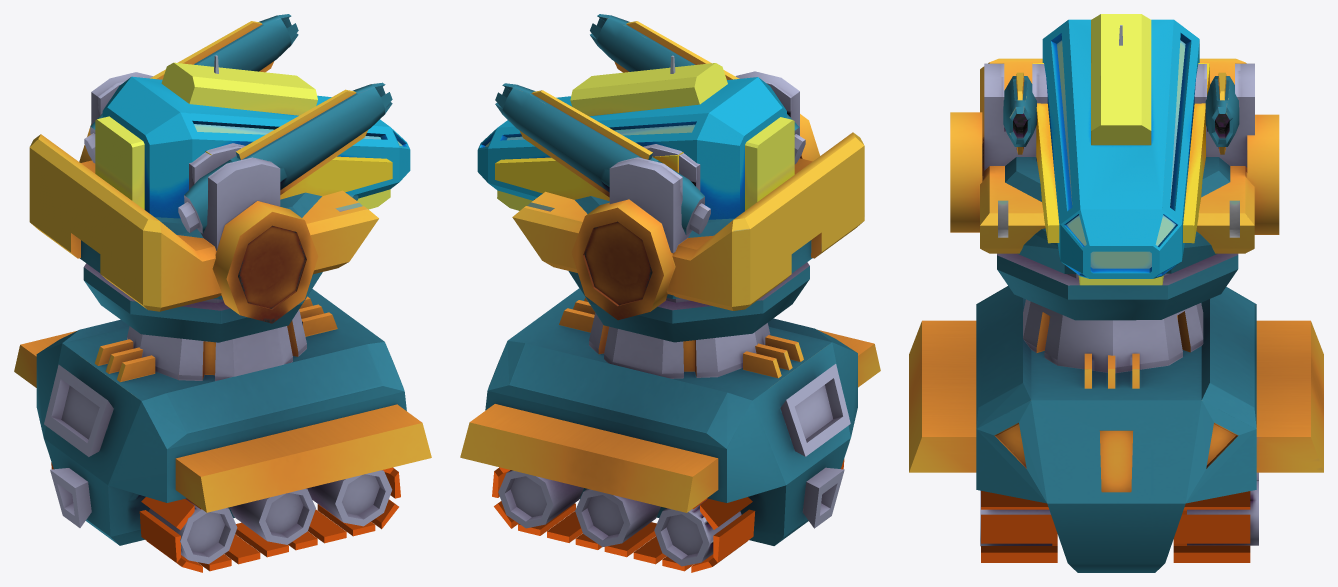
The model's file is Player_Idle_1_Upgrade16.obj.
3 views of the same model, side by side, from view 1: azimuth 30°, elevation 25°; view 2: azimuth 150°, elevation 25°; view 3: azimuth 270°, elevation 25° (orthographic). The views are drawn at different scales.
Parts seen in each view (by area): view 1: Object008, Object014, Box009, Box017; view 2: Object008, Object014, Box009, Box016; view 3: Object008, Box016, Box017, Object014, Box009.
Boxes of the visible parts, <box> form: Object008: <box>14,62,431,545</box>; Object014: <box>84,14,392,233</box>; Box009: <box>149,470,392,563</box>; Box017: <box>139,467,400,572</box>; Object008: <box>460,63,880,545</box>; Object014: <box>495,14,805,235</box>; Box009: <box>498,470,741,566</box>; Box016: <box>492,467,755,572</box>; Object008: <box>909,14,1323,572</box>; Box016: <box>1173,491,1250,562</box>; Box017: <box>981,491,1057,562</box>; Object014: <box>1003,72,1239,154</box>; Box009: <box>980,472,1258,546</box>.
Size of the model in its own units: 65.77 by 85.23 by 66.14.
4 materials, 2 textured.
